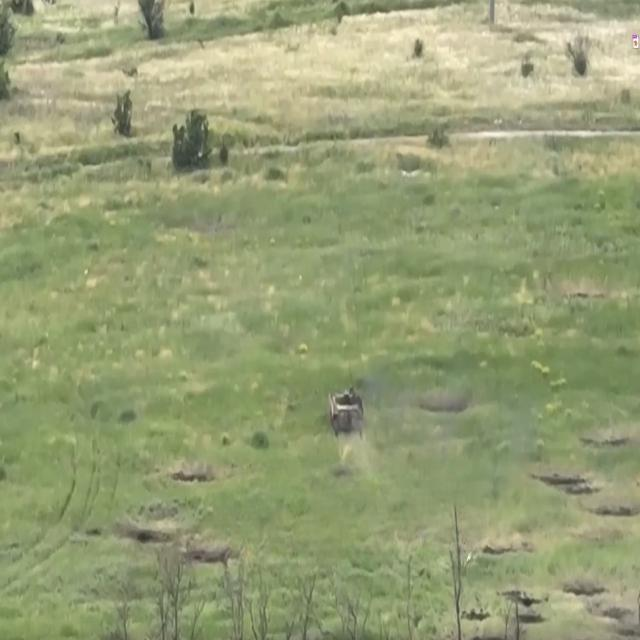AIFV: (329, 384, 367, 439)
